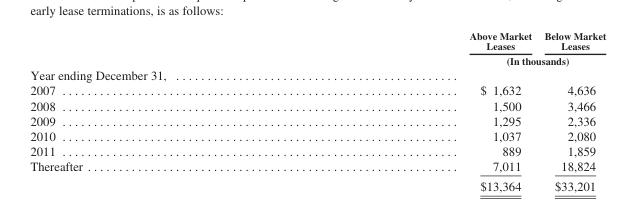table: (29, 29, 605, 193)
table column: (275, 29, 537, 193), (29, 29, 275, 193), (537, 29, 605, 193)
table column header: (29, 29, 605, 67)
table projected row header: (29, 67, 605, 82)
table row: (29, 29, 605, 52), (29, 158, 605, 176), (29, 176, 605, 193), (29, 112, 605, 128), (29, 52, 605, 67), (29, 67, 605, 82), (29, 82, 605, 97), (29, 97, 605, 112), (29, 128, 605, 143), (29, 143, 605, 158)
table spanning cell: (275, 52, 605, 67)
